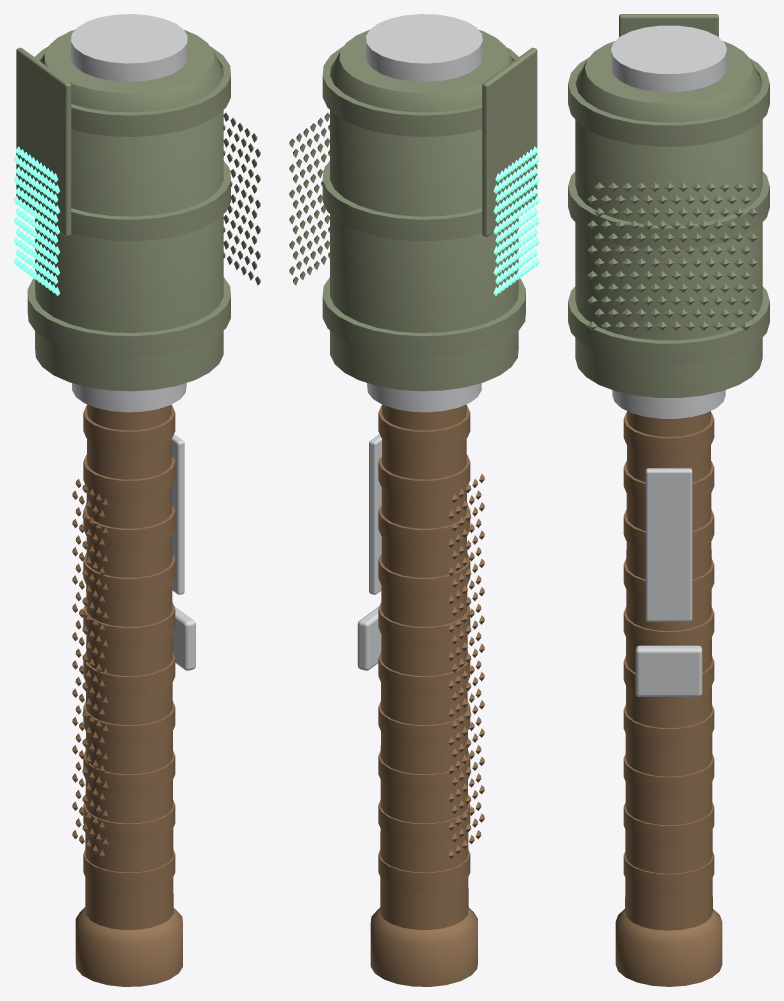
The model's file is mega-weapon-pack-stick-grenade-3b339fe7__33360.glb.
The picture shows the model from 3 angles, left to right: view 1: azimuth 30°, elevation 25°; view 2: azimuth 150°, elevation 25°; view 3: azimuth 270°, elevation 25°; orthographic projection.
Parts seen in each view (by area): view 1: stick-grenade; view 2: stick-grenade; view 3: stick-grenade.
Boxes of the visible parts, x1,y1,x2,y2 form: stick-grenade: (14,14,260,986); stick-grenade: (289,14,539,986); stick-grenade: (568,14,769,986).
Bounding box in the file's own units: 0.0642 × 0.302 × 0.0604.
